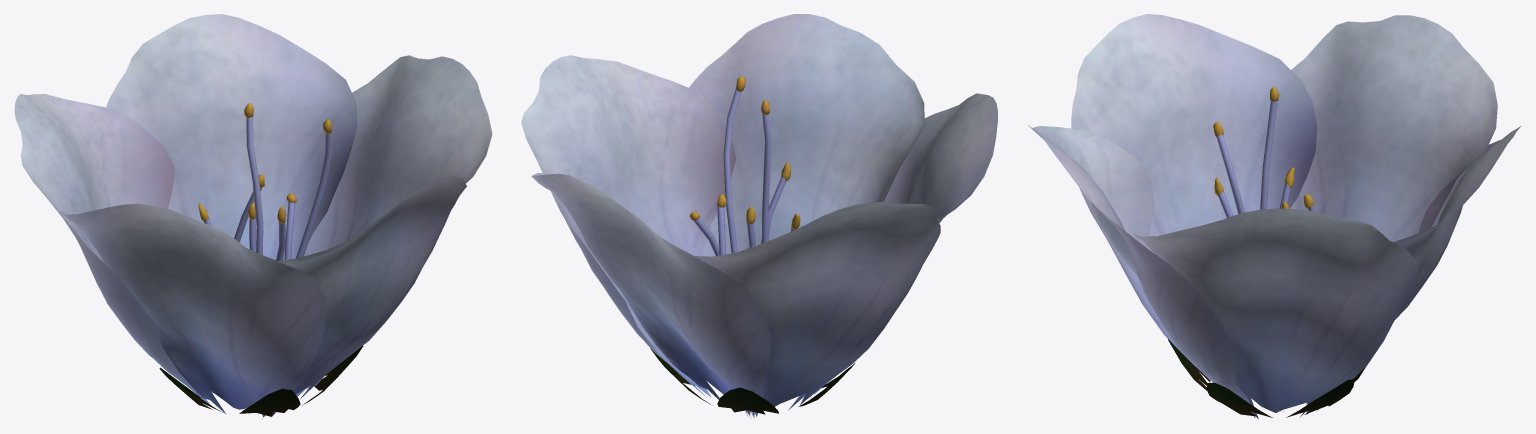
3 renders of one model, left to right at view 1: azimuth 30°, elevation 25°; view 2: azimuth 150°, elevation 25°; view 3: azimuth 270°, elevation 25°, orthographic. The views are drawn at different scales.
Visible parts, largest first — view 1: c20b1f12; view 2: c20b1f12; view 3: c20b1f12.
Part boxes in pixels (x1,y1,x2,y2): c20b1f12: [14, 14, 492, 417]; c20b1f12: [521, 14, 997, 418]; c20b1f12: [1027, 14, 1520, 419].
Size of the model in its own units: 0.0763 by 0.055 by 0.0769.
3 materials, 3 textured.
